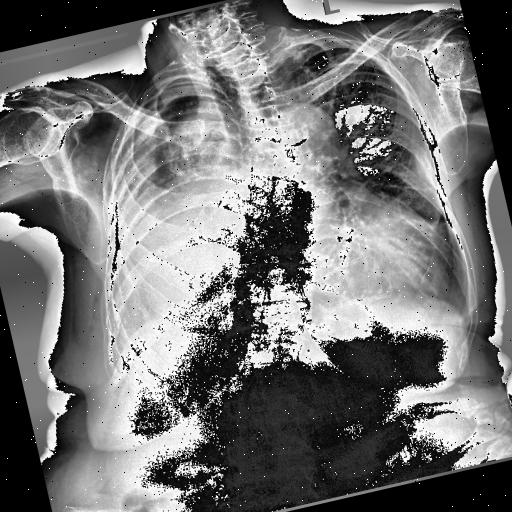0- Aortic enlargement: (269, 96, 346, 178), (268, 95, 343, 174), (262, 96, 342, 169)
10- Pleural effusion: (70, 70, 280, 380), (58, 62, 279, 328), (61, 70, 269, 348)
7- Lung Opacity: (70, 70, 280, 380), (137, 96, 222, 202), (140, 94, 217, 196), (408, 139, 440, 203), (413, 148, 436, 186)
9- Other lesion: (204, 46, 318, 273), (408, 139, 440, 203)
